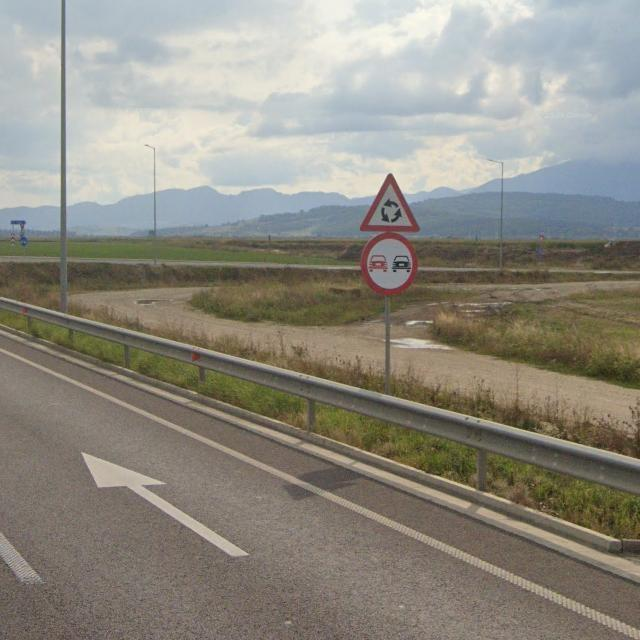forb_overtake: (359, 234, 418, 295)
